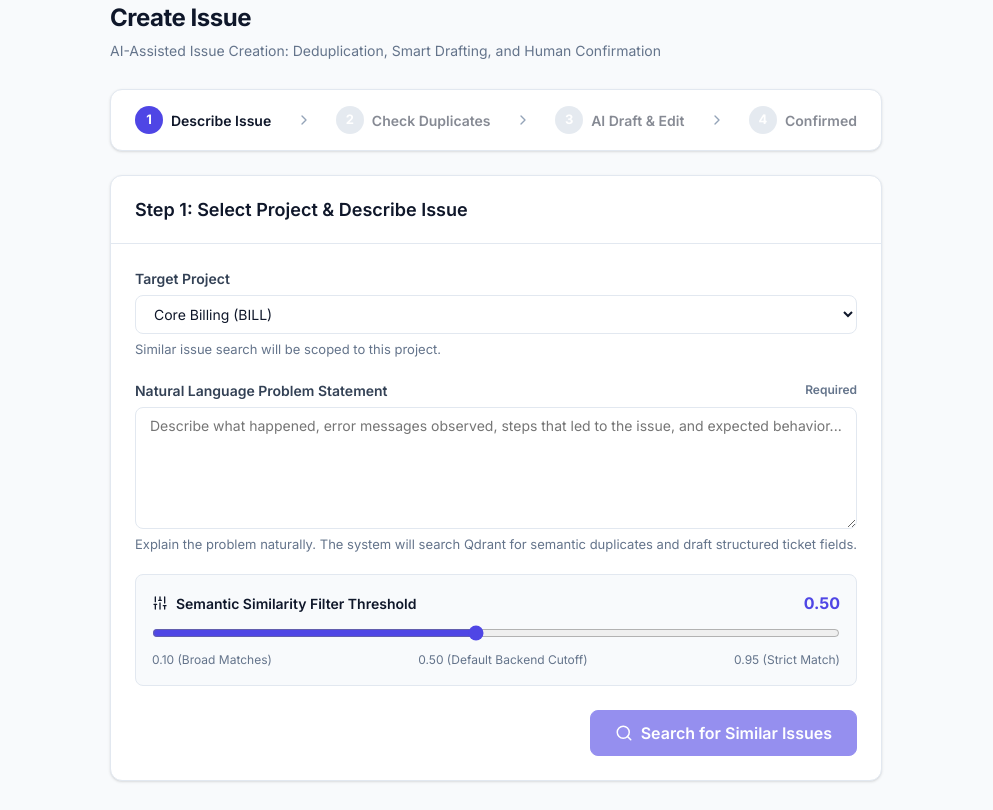
Scenario: AI-Assisted Issue Creation Workflow › progresses through describe -> deduplication -> AI draft -> user edit -> confirmed creation
Input description and submit
Replace the text in the text box labelled "Natural Language Problem Statement Required" with "Customer payments are failing intermittently with gateway timeout error" at (496, 468), box [135,406,857,528]
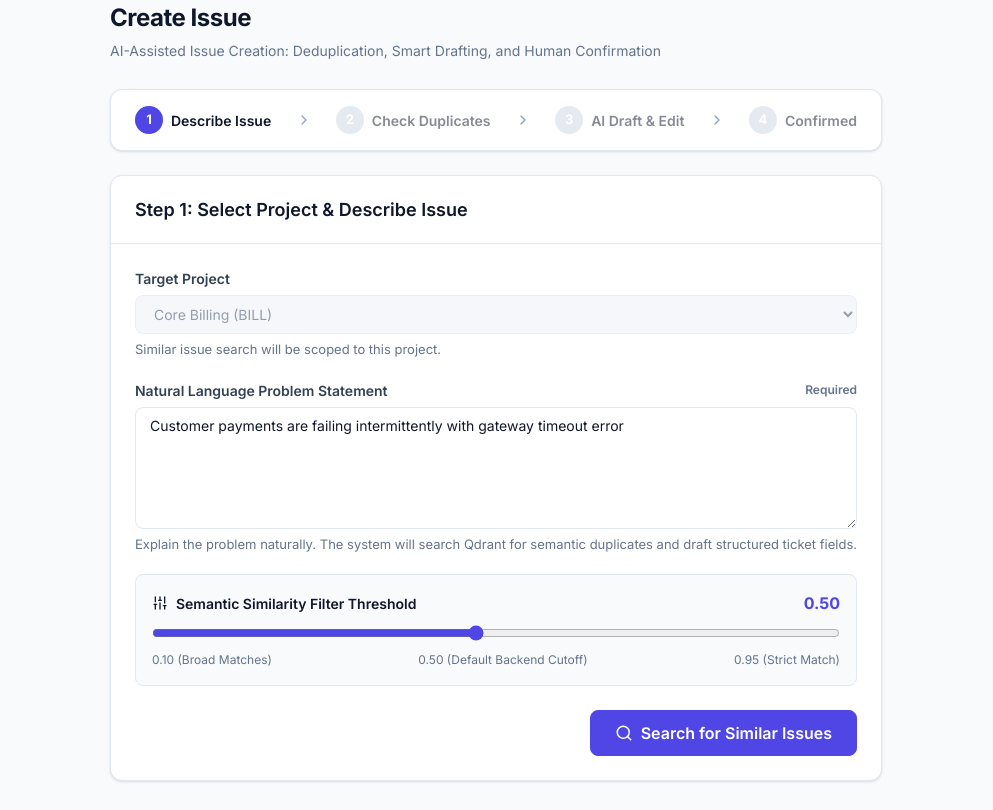
Click the button "Search for Similar Issues" at (723, 733), box [590,710,857,756]
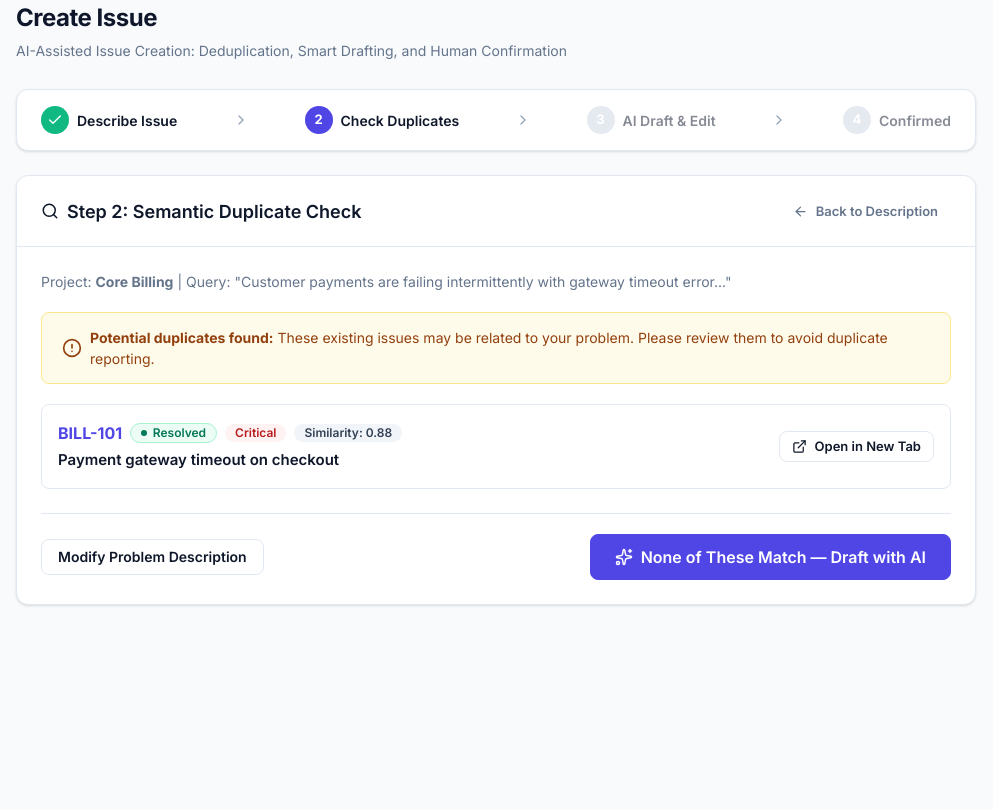
Result: the text "BILL-101" is shown at [58,421,122,445]
Result: the text "Similarity: 0.88" is shown at [294,424,402,442]
Result: the text "Potential duplicates found:" is shown at [90,329,274,346]
User chooses to draft with AI
Click the button "None of These Match — Draft with AI" at (770, 557), box [590,534,951,580]
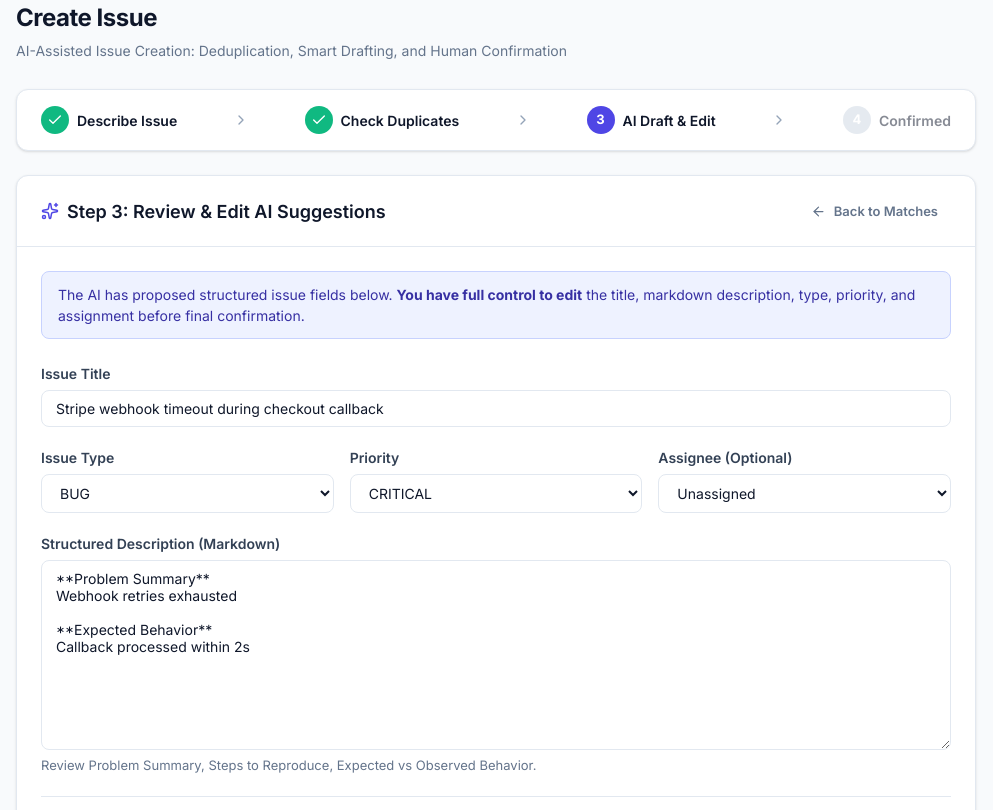
Result: the field showing "Stripe webhook timeout during checkout callback" is shown
Verify user can edit the proposed title
Replace the text in the field labelled "Issue Title" with "Stripe webhook timeout during checkout callback (User Edited)" at (496, 409), box [41,390,951,427]
(page scrolled)
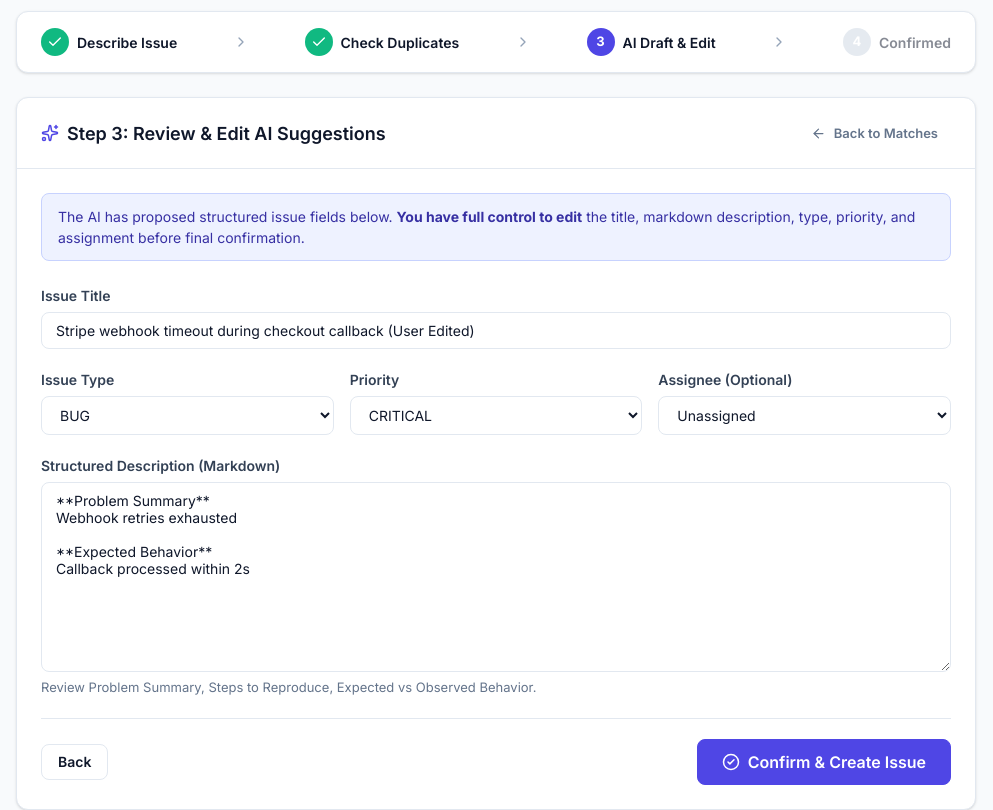
Confirm and Create
Click the button "Confirm & Create Issue" at (824, 762), box [697,739,951,785]
(page scrolled)
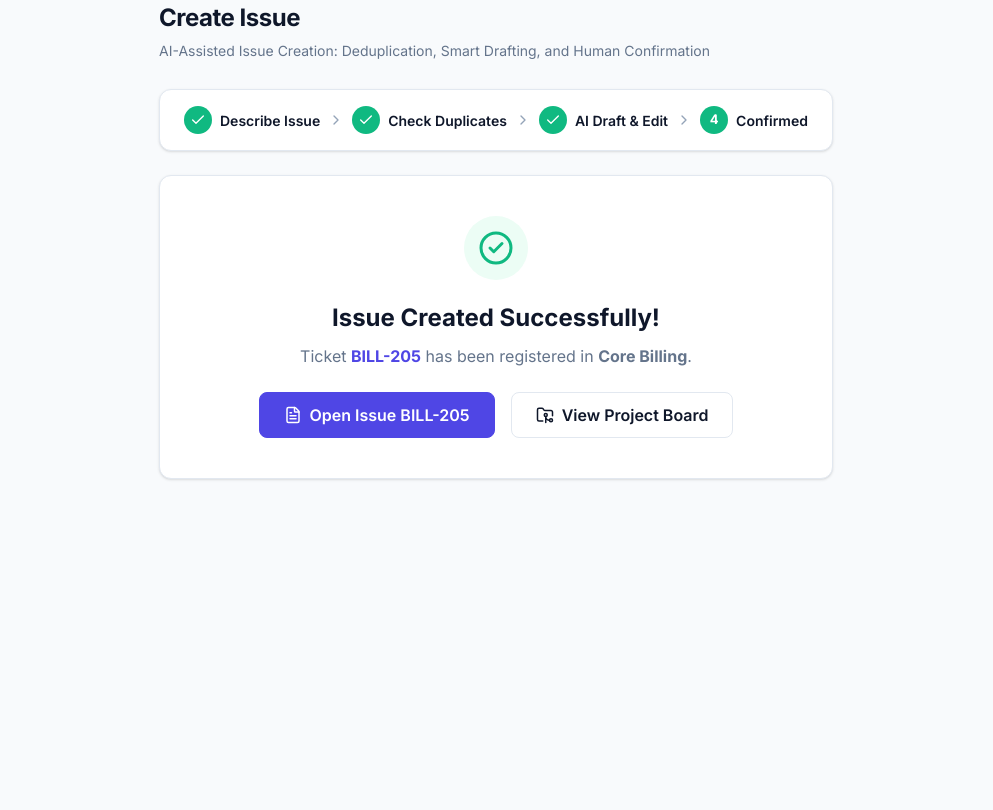
Result: the heading "Issue Created Successfully!" is shown at [332,303,660,332]
Result: the text "BILL-205" is shown at [351,346,421,366]
